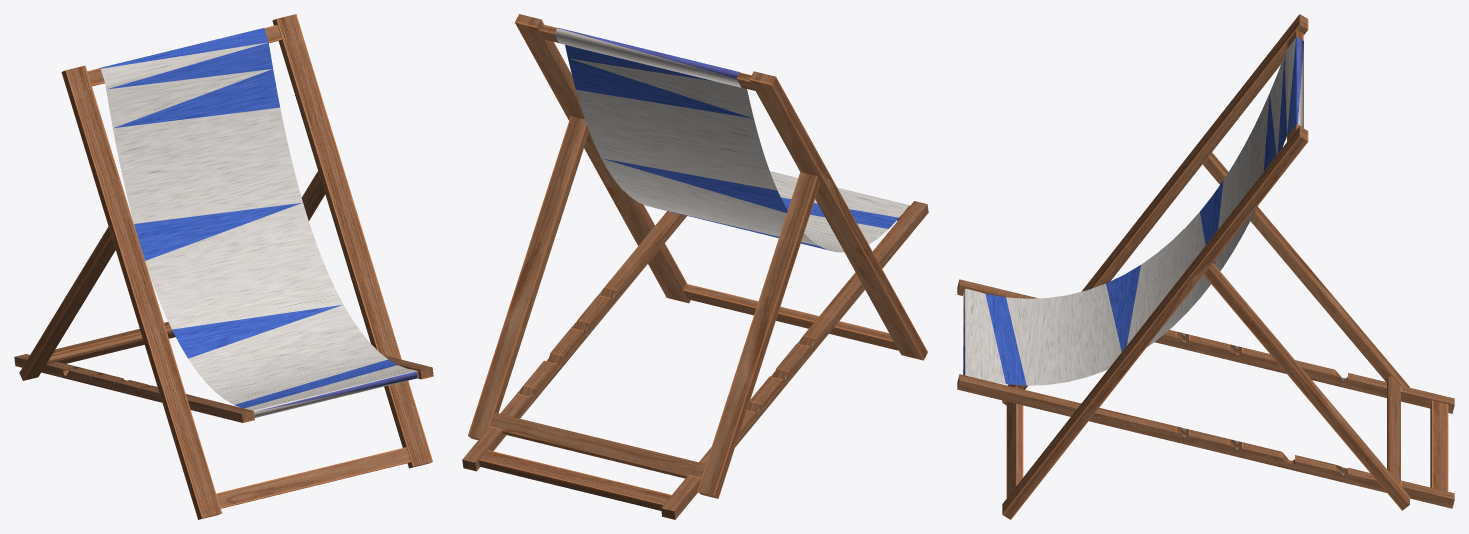
The model's file is Chair1_LOD1.fbx.
The picture shows the model from 3 angles, left to right: view 1: azimuth 30°, elevation 25°; view 2: azimuth 150°, elevation 25°; view 3: azimuth 270°, elevation 25°; orthographic projection. The views are drawn at different scales.
Visible parts, largest first — view 1: Plane, Cube.001, Cube.006, Cube.004, Cube, Cylinder, Cube.005; view 2: Plane, Cube.006, Cube.001, Cube.004, Cylinder, Cube.005, Cube; view 3: Plane, Cube.001, Cube.004, Cube.006, Cube.005, Cube, Cylinder.
Boxes of the visible parts, left/top/right/bottom form: Plane: left=99, top=28, right=417, bottom=417; Cube.001: left=61, top=14, right=432, bottom=519; Cube.006: left=19, top=171, right=325, bottom=380; Cube.004: left=14, top=354, right=433, bottom=422; Cube: left=216, top=447, right=410, bottom=508; Cylinder: left=46, top=327, right=175, bottom=363; Cube.005: left=51, top=322, right=170, bottom=355; Plane: left=554, top=27, right=909, bottom=252; Cube.006: left=468, top=116, right=820, bottom=498; Cube.001: left=515, top=14, right=927, bottom=360; Cube.004: left=462, top=201, right=928, bottom=519; Cylinder: left=490, top=413, right=705, bottom=478; Cube.005: left=479, top=450, right=671, bottom=510; Cube: left=683, top=283, right=898, bottom=350; Plane: left=963, top=37, right=1303, bottom=385; Cube.001: left=1002, top=14, right=1308, bottom=519; Cube.004: left=957, top=279, right=1454, bottom=508; Cube.006: left=1202, top=152, right=1409, bottom=510; Cube.005: left=1430, top=400, right=1448, bottom=491; Cube: left=1006, top=387, right=1023, bottom=497; Cylinder: left=1387, top=376, right=1400, bottom=484.
Size of the model in its own units: 78.55 by 115 by 135.
